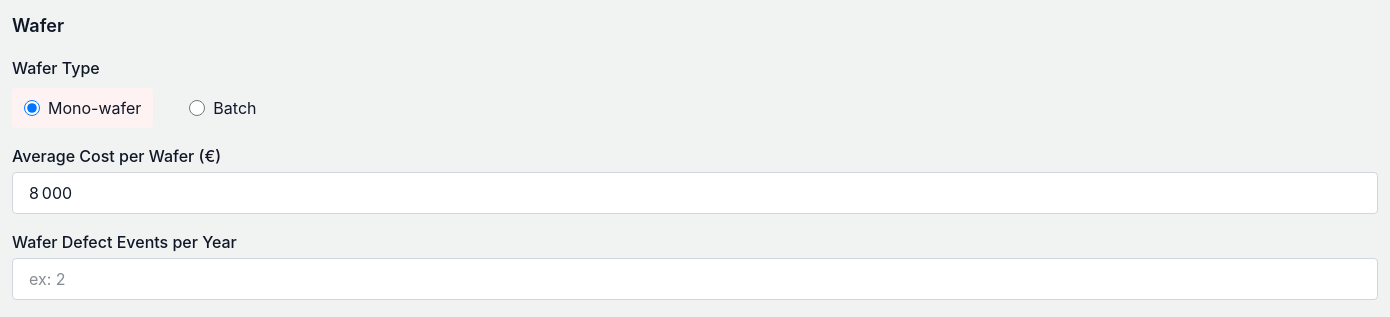
Test: WaferInputs › shows raw value on focus for easier editing
The image size is (1390, 317).
Click the field labelled "Average Cost per Wafer (€)" at (695, 193), box [12, 172, 1378, 214]
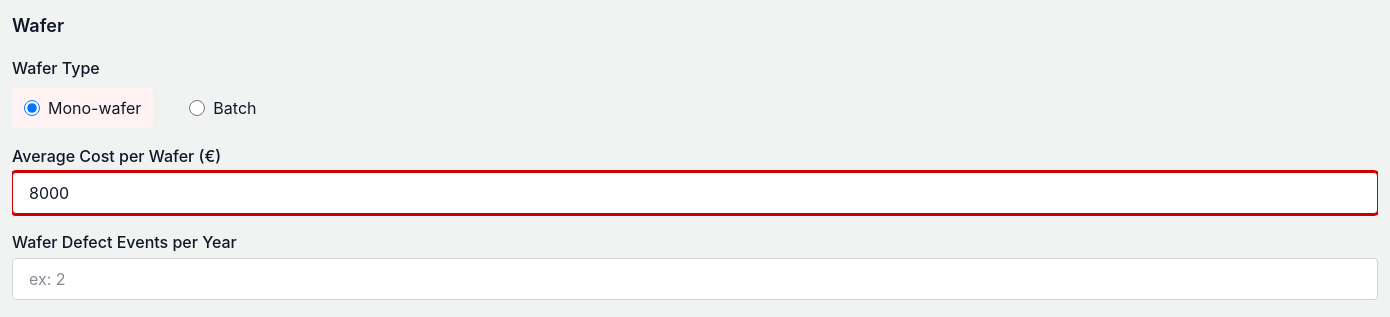
Result: the field labelled "Average Cost per Wafer (€)" holds "8000" at [12, 172, 1378, 214]
